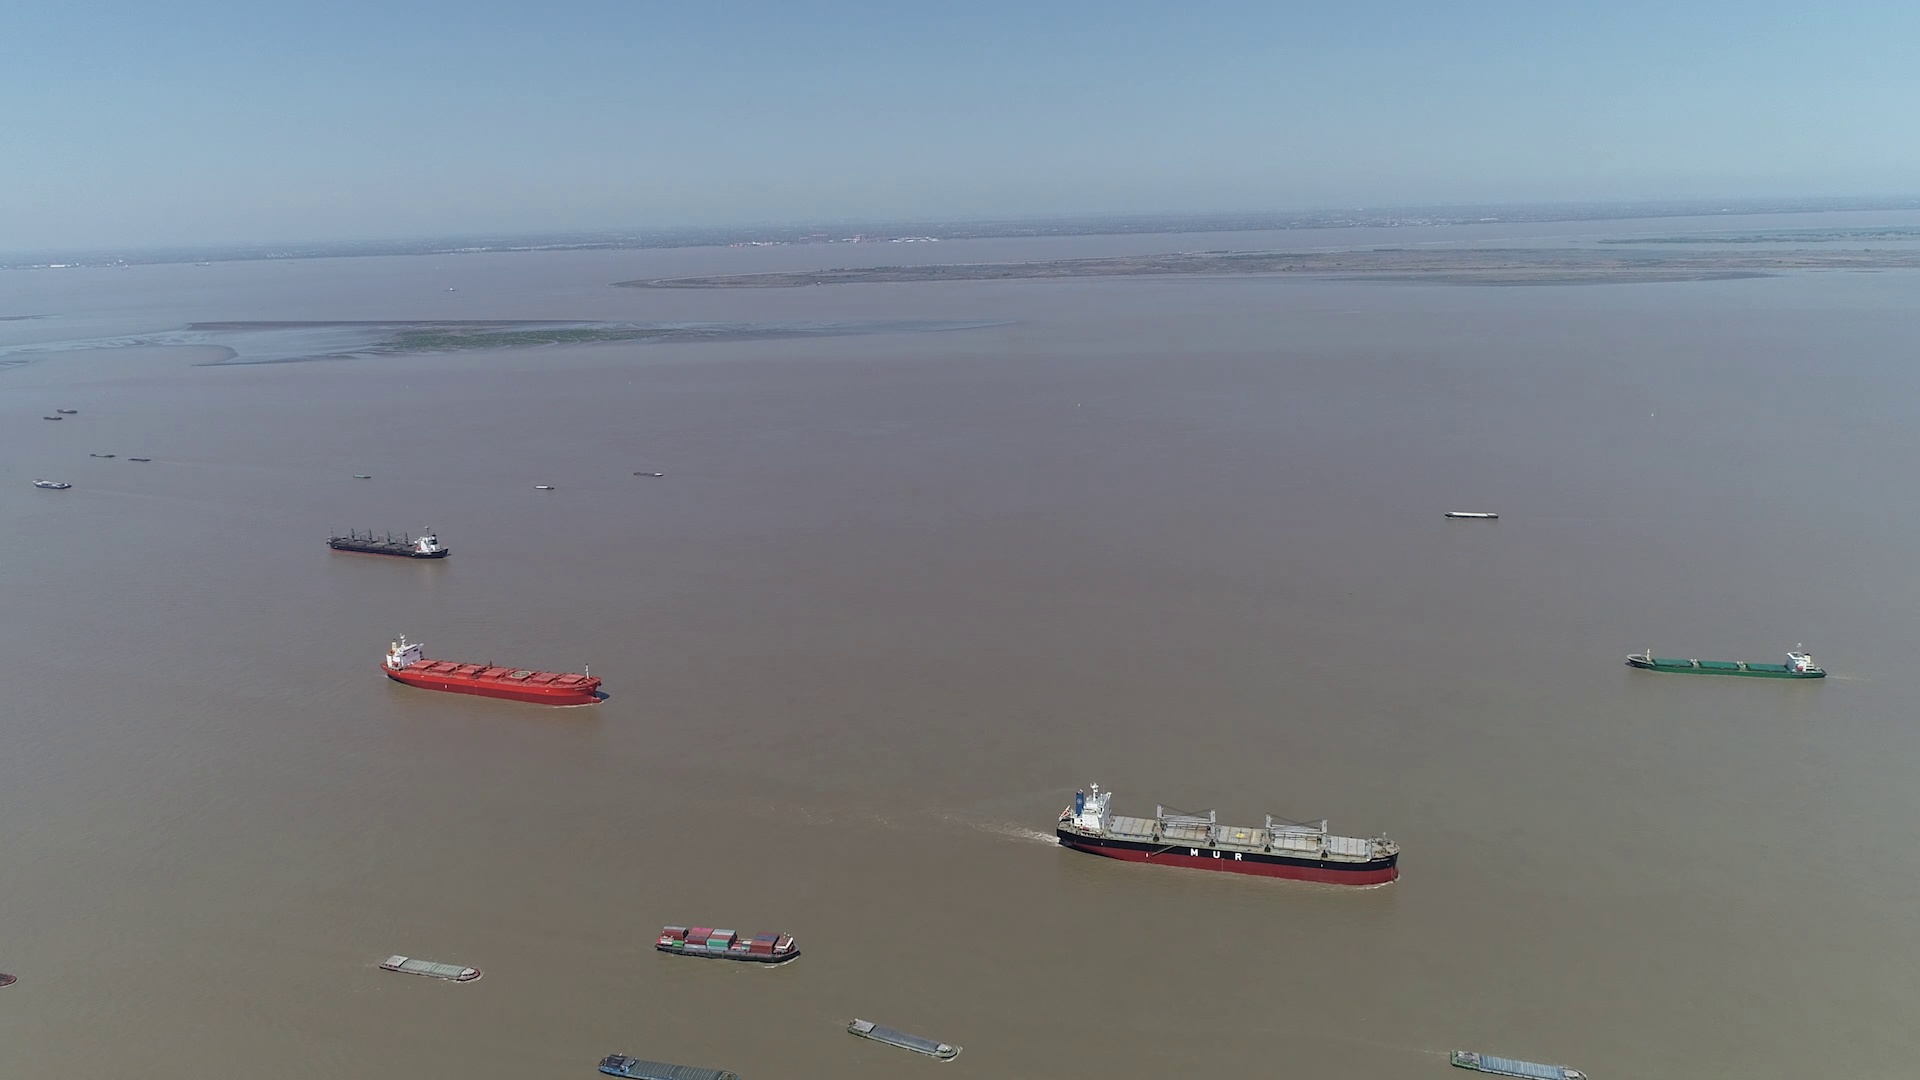ship: (1058, 783, 1402, 884), (382, 637, 603, 704), (1626, 645, 1826, 679), (655, 927, 800, 964), (848, 1021, 963, 1063), (1451, 1048, 1582, 1079), (326, 526, 446, 559), (600, 1054, 733, 1080), (380, 952, 480, 981), (1448, 512, 1499, 521), (34, 479, 73, 489)
